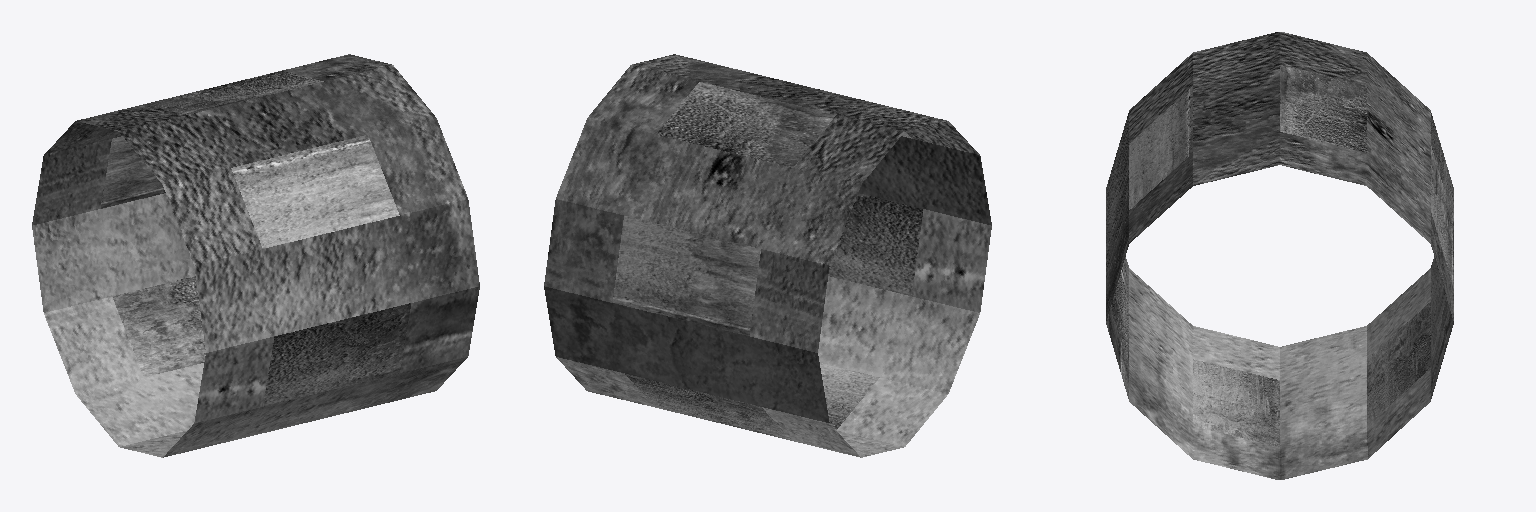
3 renders of one model, left to right at view 1: azimuth 30°, elevation 25°; view 2: azimuth 150°, elevation 25°; view 3: azimuth 270°, elevation 25°, orthographic.
Visible parts, largest first — view 1: Cube.003; view 2: Cube.003; view 3: Cube.003.
Part boxes in pixels (x1,y1,x2,y2): Cube.003: (32,54,479,457); Cube.003: (544,54,991,457); Cube.003: (1106,32,1453,479).
Bounding box in the file's own units: 2 × 2.2 × 2.2.
2 materials, 1 textured.